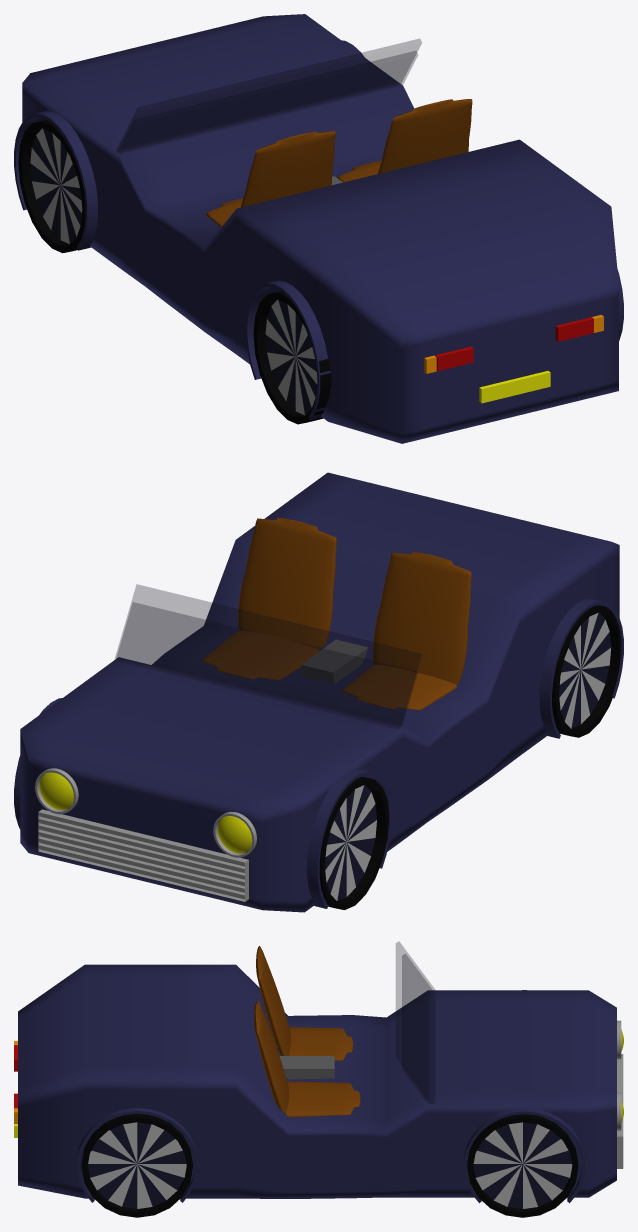
The model's file is CarForProject.fbx.
3 views of the same model, one above another, from view 1: azimuth 30°, elevation 25°; view 2: azimuth 150°, elevation 25°; view 3: azimuth 270°, elevation 25° (orthographic). The views are drawn at different scales.
Visible parts, largest first — view 1: CarBody, pCube3, pCube4, pCylinder10, pCylinder9, pSphere1, pSphere4, pPipe5, pPipe6, pCube9, pCube5, pCube7; view 2: CarBody, pCube3, pCube4, pSphere1, pSphere4, pCube2, pCylinder9, pCylinder10, pSphere3, pSphere2, pPipe6, pPipe5 (+5 smaller); view 3: CarBody, pCylinder7, pCylinder8, pCube3, pCube4, pSphere3, pSphere2, pSphere4, pSphere1, pPipe4, pPipe3, pCube1 (+1 smaller).
Part boxes in pixels (left/top/right/bottom): CarBody: left=22, top=14, right=618, bottom=443; pCube3: left=116, top=39, right=421, bottom=152; pCube4: left=118, top=51, right=417, bottom=153; pCylinder10: left=253, top=291, right=331, bottom=424; pCylinder9: left=18, top=120, right=85, bottom=253; pSphere1: left=241, top=131, right=335, bottom=207; pSphere4: left=378, top=99, right=472, bottom=173; pPipe5: left=14, top=111, right=97, bottom=250; pPipe6: left=245, top=280, right=330, bottom=419; pCube9: left=479, top=371, right=550, bottom=403; pCube5: left=555, top=317, right=593, bottom=341; pCube7: left=435, top=346, right=473, bottom=371; CarBody: left=20, top=472, right=619, bottom=912; pCube3: left=114, top=584, right=421, bottom=728; pCube4: left=116, top=602, right=417, bottom=726; pSphere1: left=372, top=551, right=471, bottom=684; pSphere4: left=238, top=517, right=336, bottom=649; pCube2: left=38, top=809, right=248, bottom=901; pCylinder9: left=319, top=776, right=388, bottom=909; pCylinder10: left=552, top=605, right=620, bottom=737; pSphere3: left=201, top=630, right=319, bottom=680; pSphere2: left=341, top=664, right=456, bottom=710; pPipe6: left=539, top=598, right=623, bottom=738; pPipe5: left=307, top=769, right=391, bottom=908; CarBody: left=18, top=964, right=616, bottom=1198; pCylinder7: left=81, top=1113, right=192, bottom=1217; pCylinder8: left=467, top=1114, right=578, bottom=1217; pCube3: left=396, top=942, right=435, bottom=1103; pCube4: left=402, top=954, right=432, bottom=1103; pSphere3: left=286, top=1081, right=360, bottom=1117; pSphere2: left=289, top=1027, right=353, bottom=1060; pSphere4: left=254, top=1000, right=288, bottom=1112; pSphere1: left=256, top=946, right=290, bottom=1055; pPipe4: left=464, top=1108, right=584, bottom=1203; pPipe3: left=77, top=1108, right=197, bottom=1202; pCube1: left=279, top=1056, right=334, bottom=1079.
Bounding box in the file's own units: 2.17 × 1.44 × 4.59.
